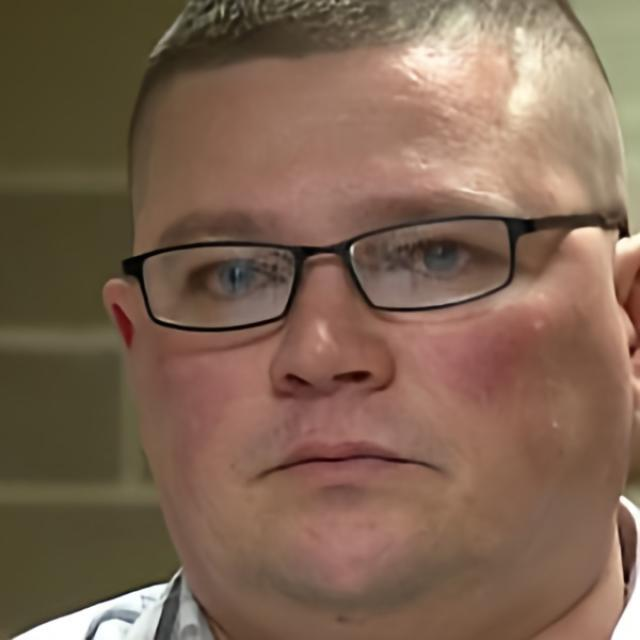neutral: (131, 4, 610, 640)
